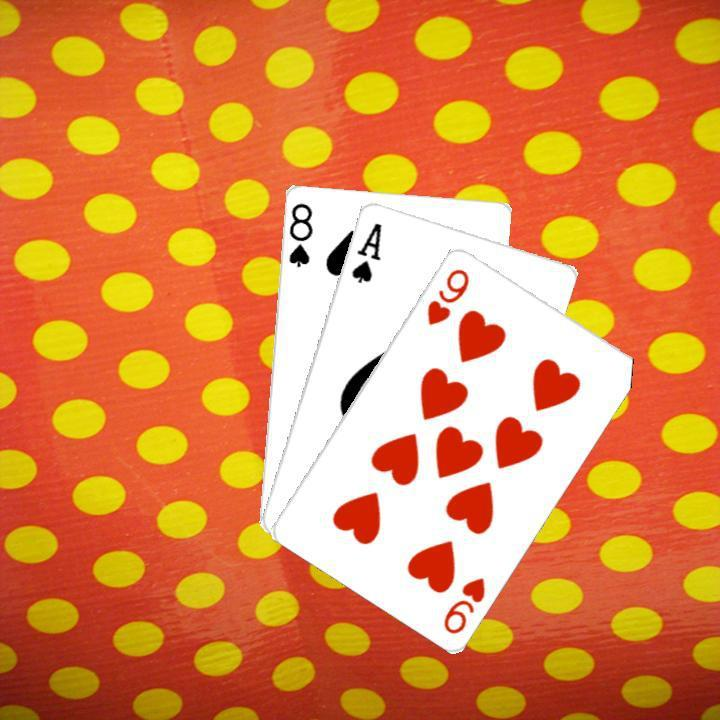8: (283, 198, 314, 269)
9: (422, 263, 472, 327), (439, 572, 488, 636)
A: (347, 217, 384, 284)
